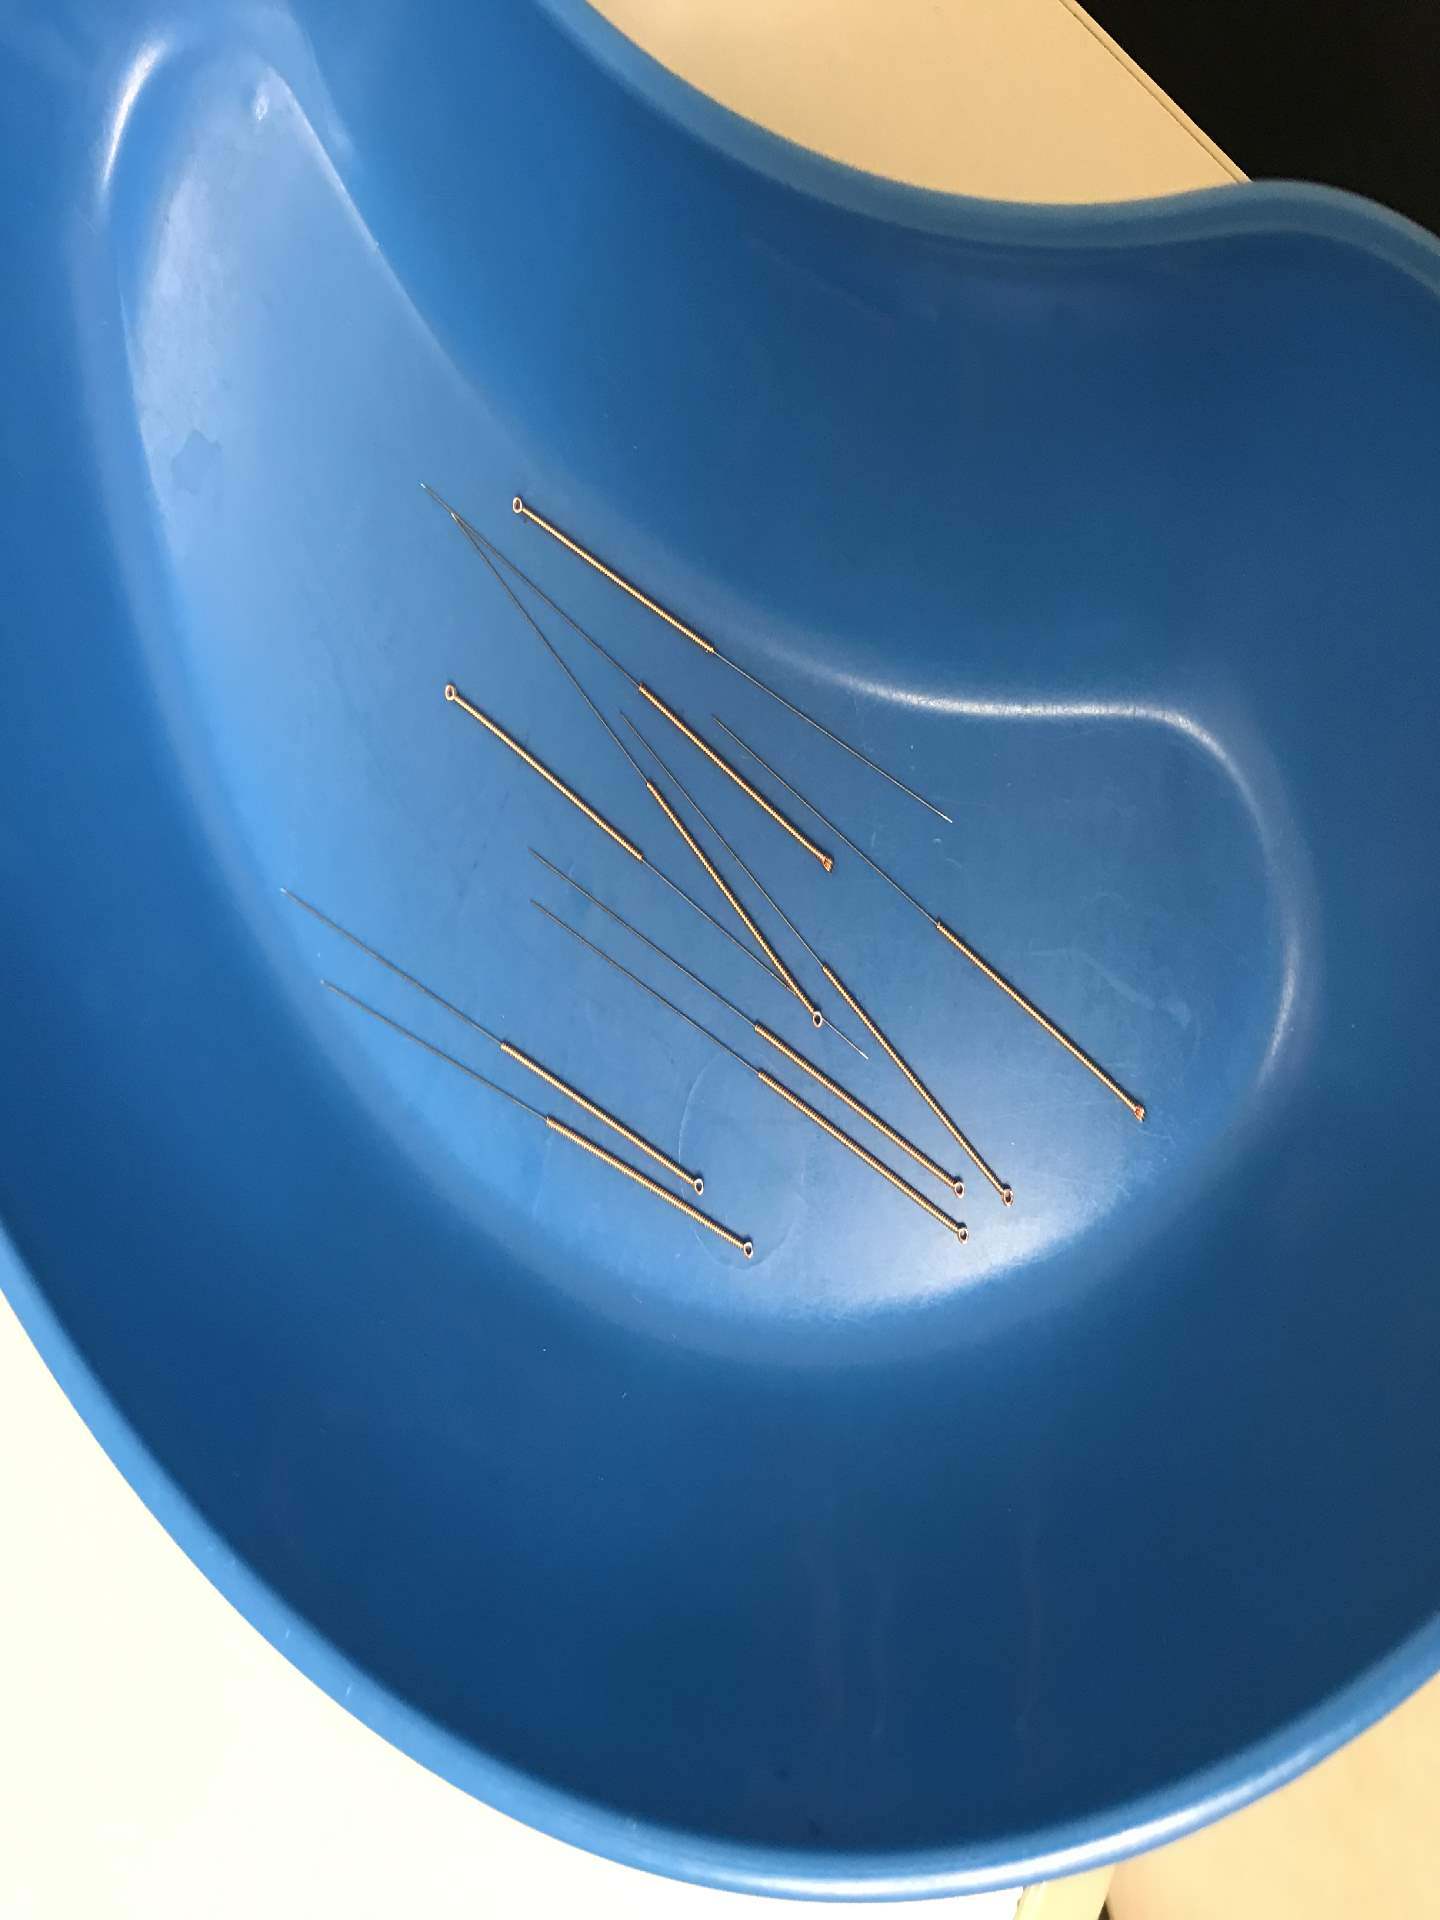needle: (433, 671, 469, 714), (1119, 1090, 1153, 1132), (501, 487, 535, 525), (989, 1178, 1023, 1215), (808, 847, 843, 878), (802, 998, 830, 1036), (682, 1167, 712, 1200), (731, 1234, 761, 1267), (942, 1172, 973, 1205), (945, 1214, 973, 1247)
